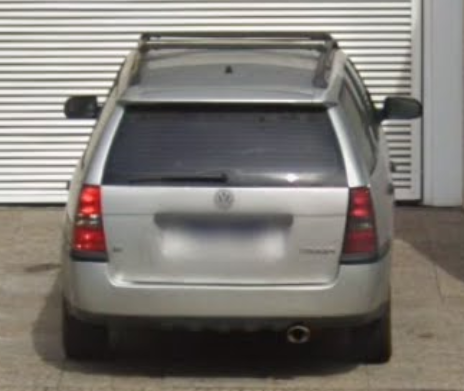car: (59, 35, 422, 364)
